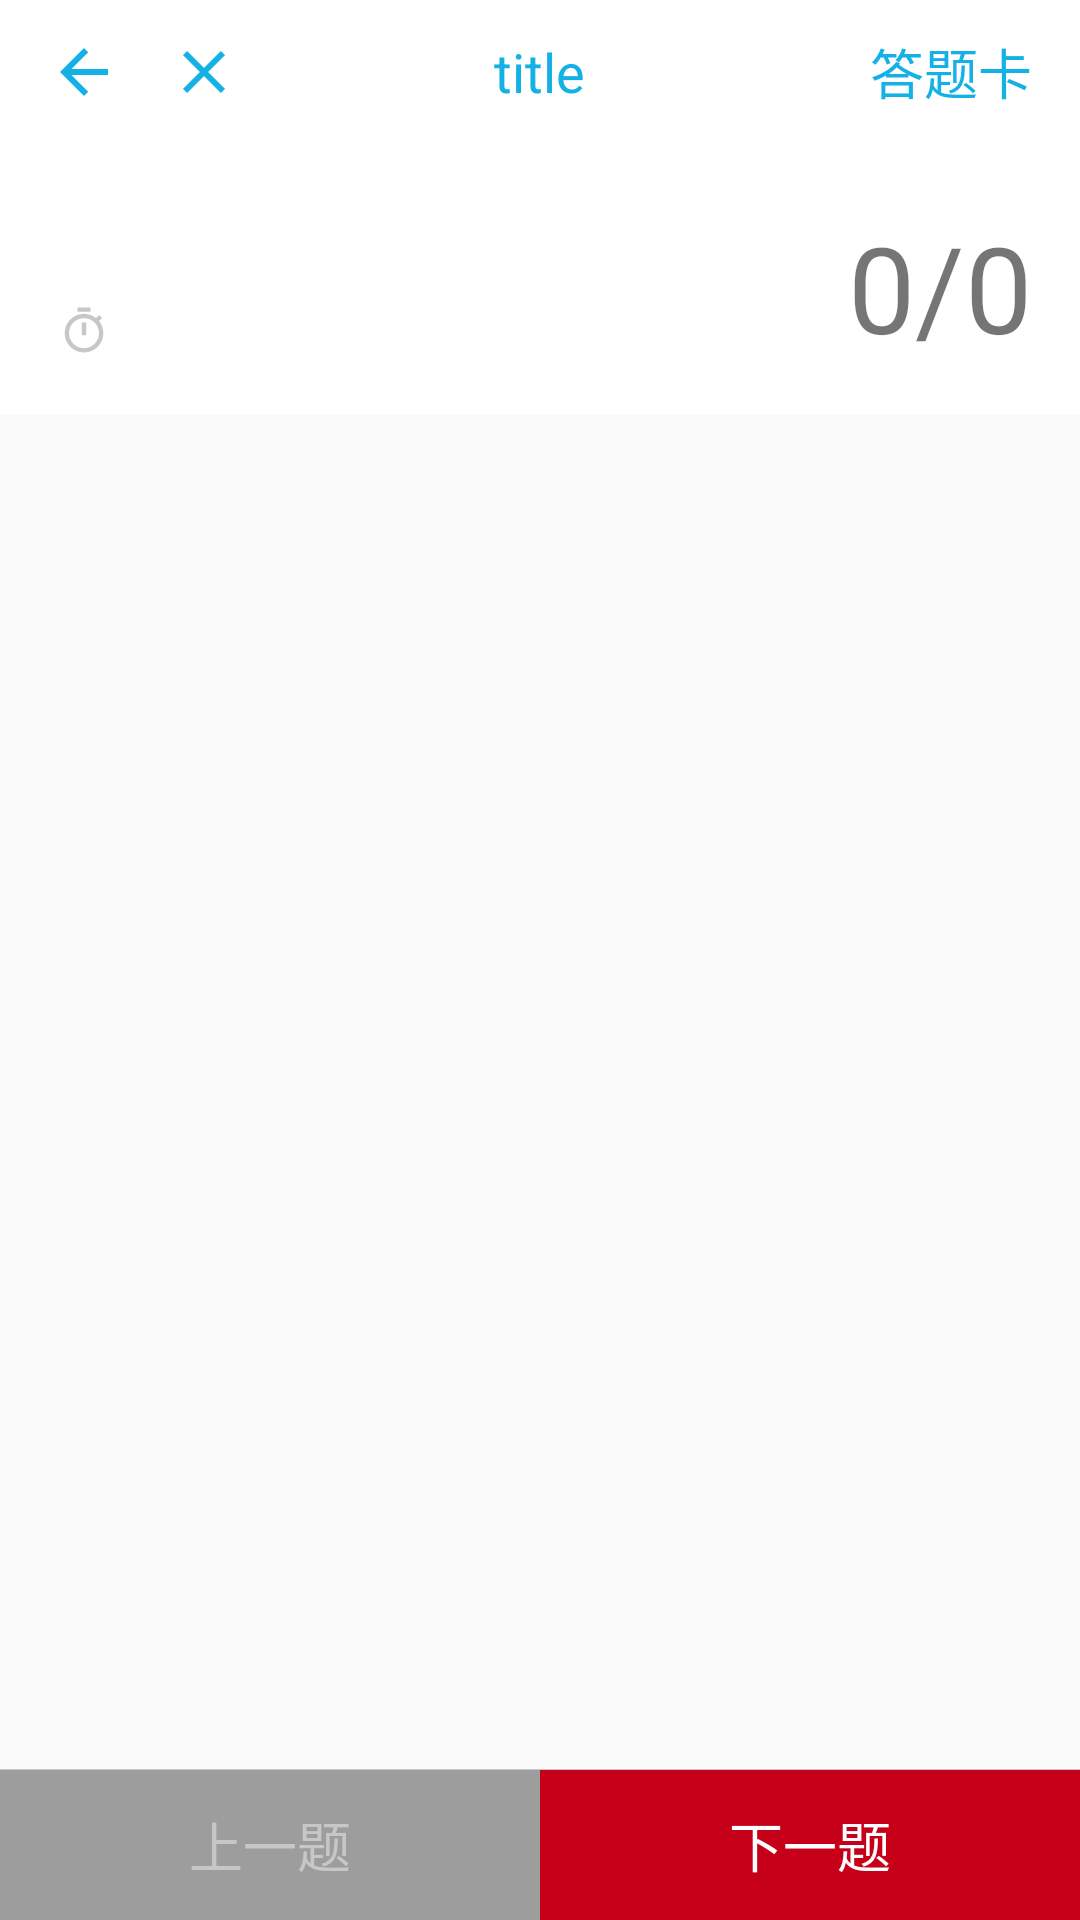

Screen size 1080x1920. Icon name, then its center in pixels as [x,y]:
card back: [84,72]
card clear: [204,72]
